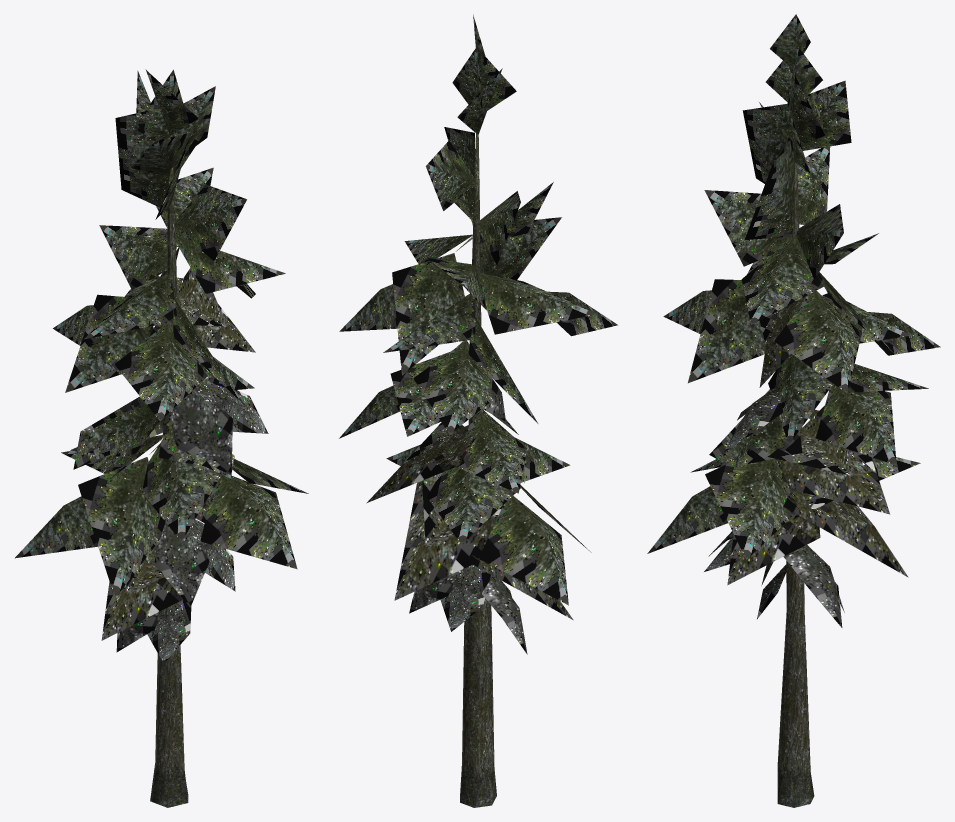
The model's file is treepineforestsnowl04-transformed.glb.
3 views of the same model, side by side, from view 1: azimuth 30°, elevation 25°; view 2: azimuth 150°, elevation 25°; view 3: azimuth 270°, elevation 25° (orthographic).
Visible parts, largest first — view 1: default; view 2: default; view 3: default.
Part boxes in pixels (<box>): default: <box>15,69,308,807</box>; default: <box>339,14,617,807</box>; default: <box>647,14,940,807</box>.
Size of the model in its own units: 6.93 by 21.73 by 7.36.
2 materials, 2 textured.
